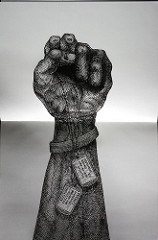fist: (35, 34, 107, 124)
